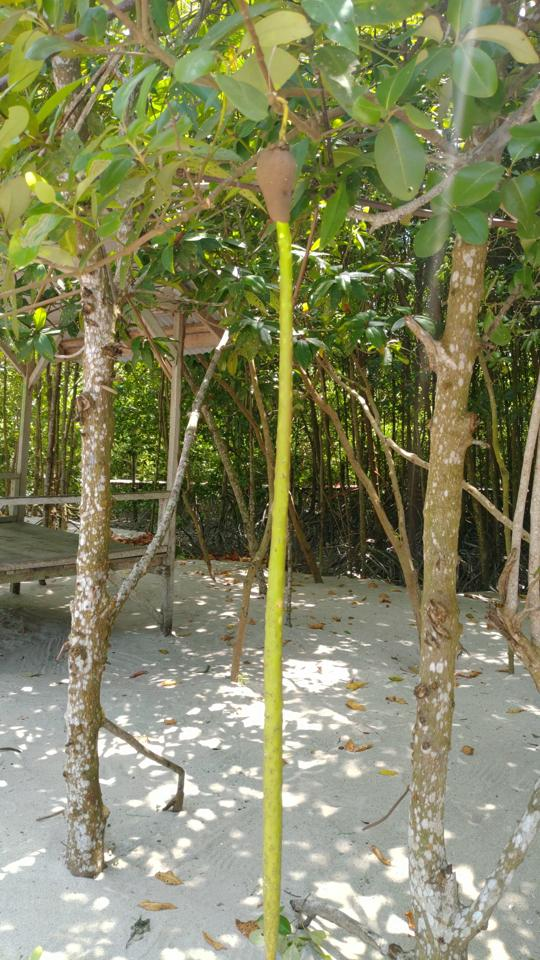mentah: (243, 130, 312, 959)
